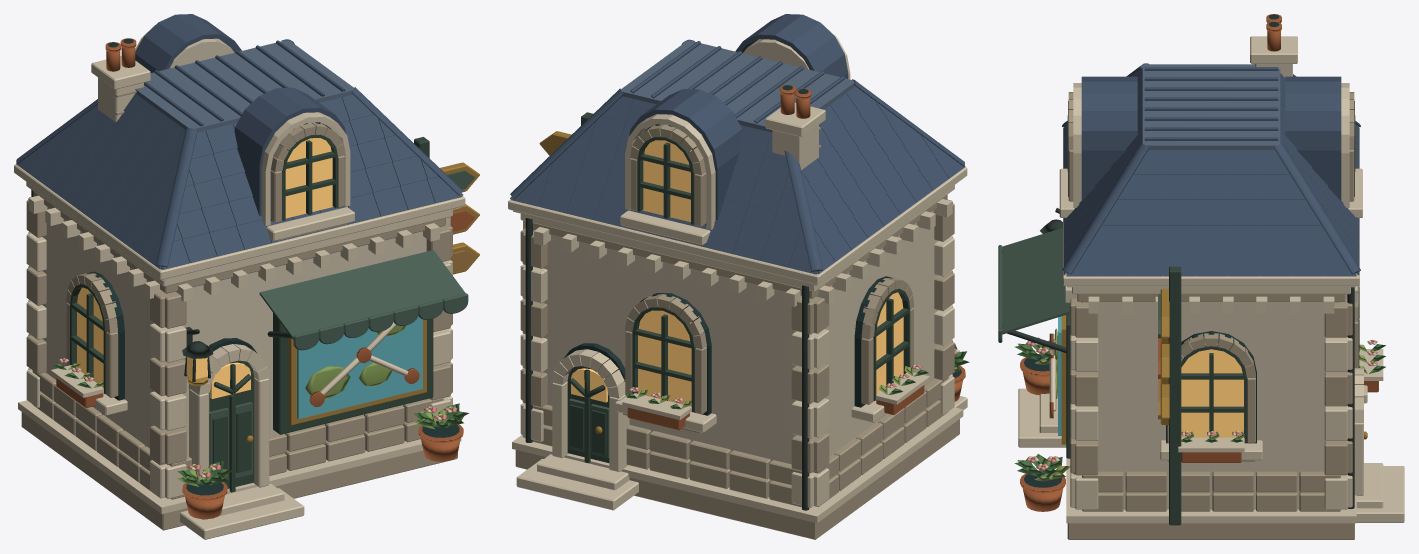
3 renders of one model, left to right at view 1: azimuth 30°, elevation 25°; view 2: azimuth 150°, elevation 25°; view 3: azimuth 270°, elevation 25°, orthographic.
Visible parts, largest first — view 1: classic_junction_hub_geometry, classic_junction_hub_geometry ceramic; view 2: classic_junction_hub_geometry, classic_junction_hub_geometry ceramic; view 3: classic_junction_hub_geometry, classic_junction_hub_geometry ceramic.
Part boxes in pixels (x1,y1,x2,y2): classic_junction_hub_geometry: (14, 24, 479, 539); classic_junction_hub_geometry ceramic: (16, 14, 463, 269); classic_junction_hub_geometry: (508, 25, 969, 539); classic_junction_hub_geometry ceramic: (510, 14, 965, 274); classic_junction_hub_geometry: (998, 14, 1404, 539); classic_junction_hub_geometry ceramic: (1062, 63, 1360, 276).
Bounding box in the file's own units: 1.04 × 1.02 × 0.9257.
